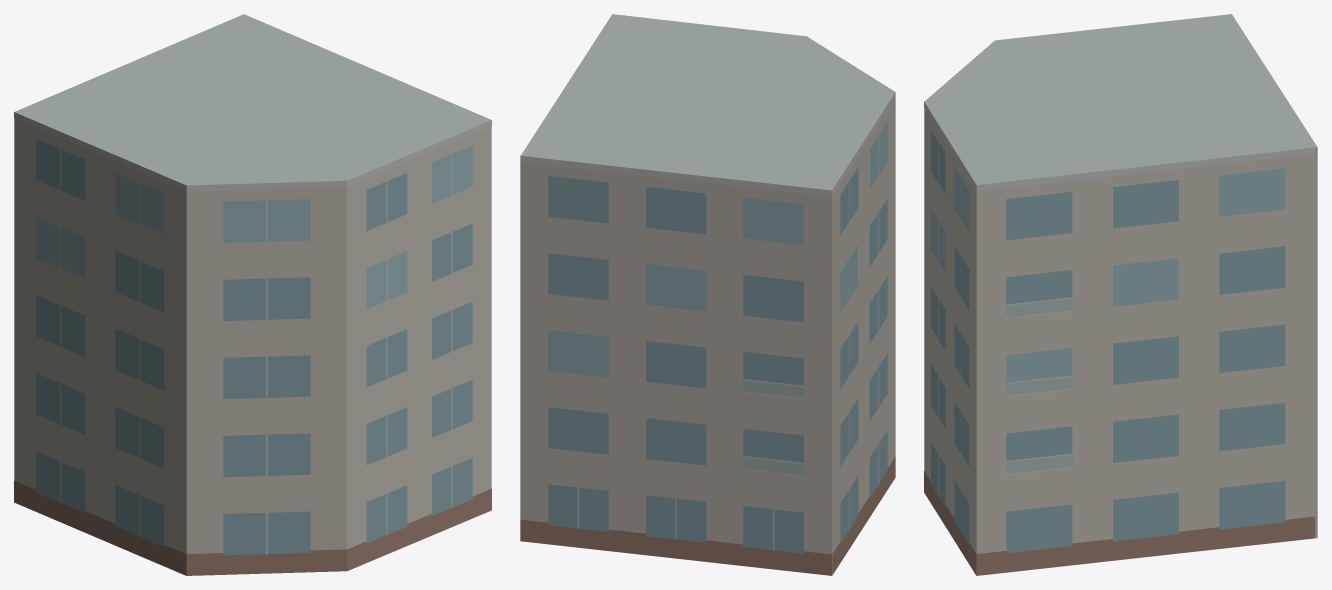
Rendered from survey-upis-32492548.glb.
3 renders of one model, left to right at view 1: azimuth 30°, elevation 25°; view 2: azimuth 150°, elevation 25°; view 3: azimuth 270°, elevation 25°, orthographic.
Parts seen in each view (by area): view 1: survey-upis-32492548.tmp; view 2: survey-upis-32492548.tmp; view 3: survey-upis-32492548.tmp.
Part boxes in pixels (bbox=[...]): survey-upis-32492548.tmp: bbox=[14, 14, 491, 575]; survey-upis-32492548.tmp: bbox=[520, 14, 895, 575]; survey-upis-32492548.tmp: bbox=[924, 14, 1317, 575].
Bounding box in the file's own units: 14.32 × 15.25 × 13.93.
